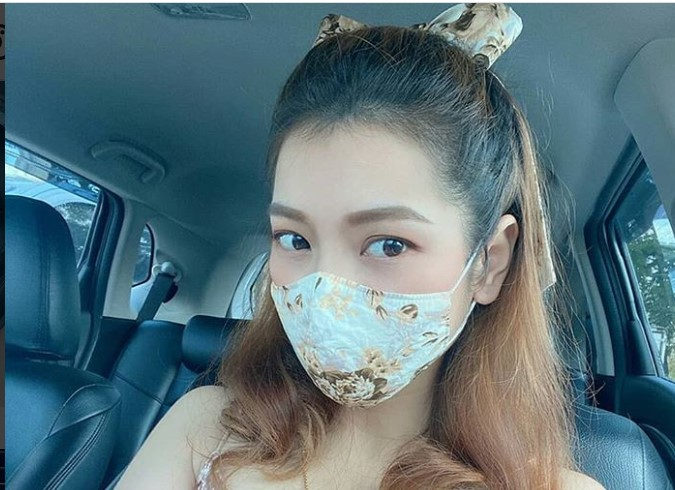face_with_mask: (267, 30, 521, 408)
